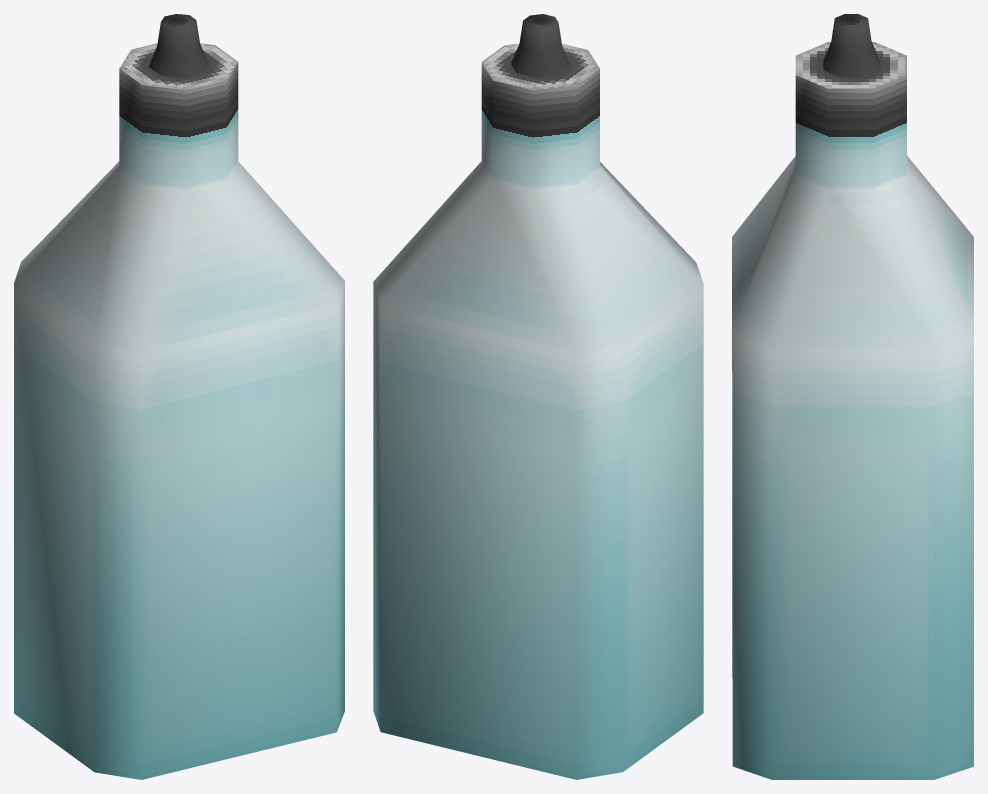
The model's file is VinegarWaterBottleSM.fbx.
3 renders of one model, left to right at view 1: azimuth 30°, elevation 25°; view 2: azimuth 150°, elevation 25°; view 3: azimuth 270°, elevation 25°, orthographic.
Visible parts, largest first — view 1: Vinegar; view 2: Vinegar; view 3: Vinegar.
Part boxes in pixels (bbox=[...]): Vinegar: bbox=[14, 14, 344, 779]; Vinegar: bbox=[373, 14, 703, 779]; Vinegar: bbox=[732, 14, 973, 779].
Bounding box in the file's own units: 6.9 × 18.24 × 5.74.
